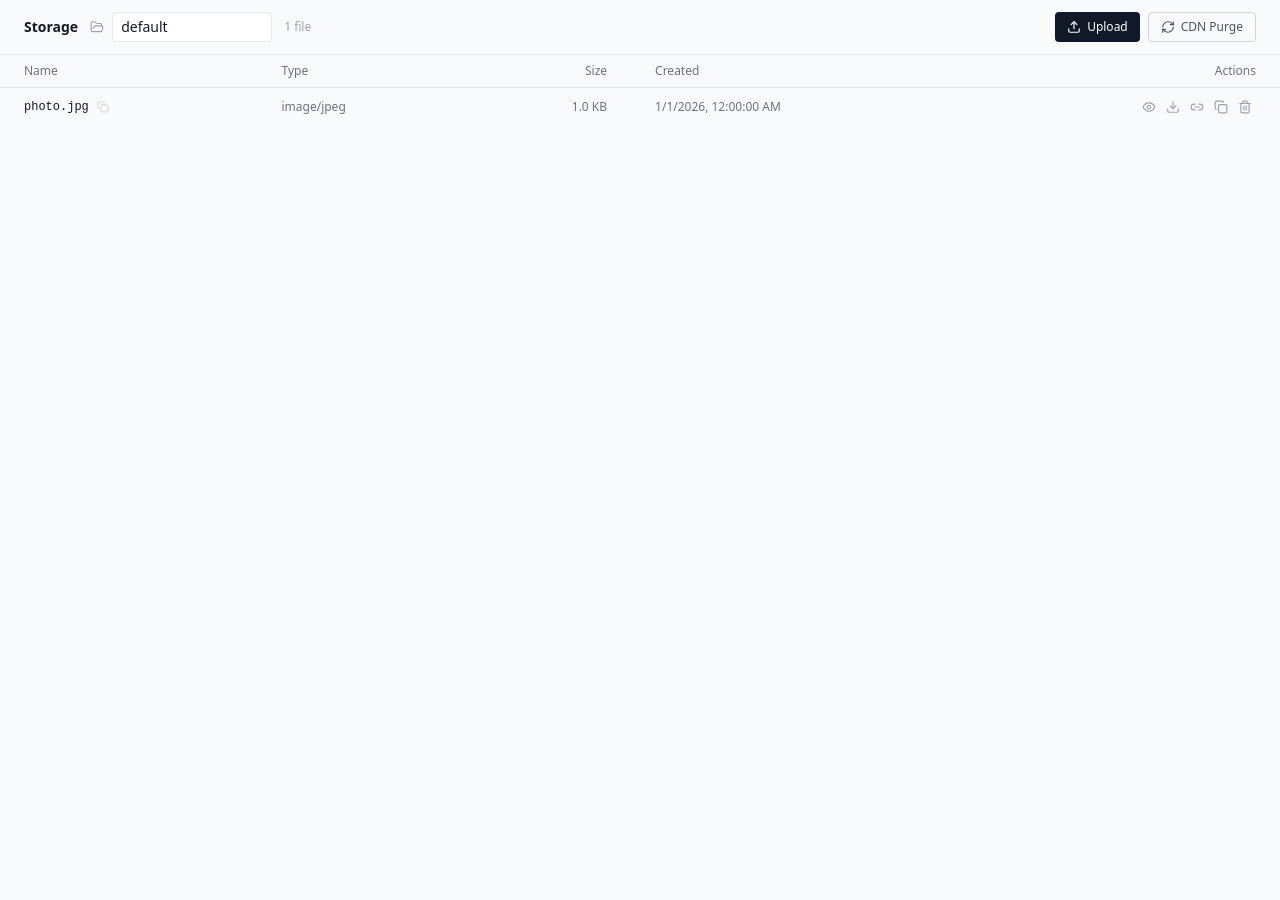
Test case: StorageBrowser › closes delete modal on Cancel
Expected: the text "photo.jpg" is shown, [24,99,89,115]
Step 1. Click the button titled "Delete" → [1245, 107], box [1234,96,1256,118]
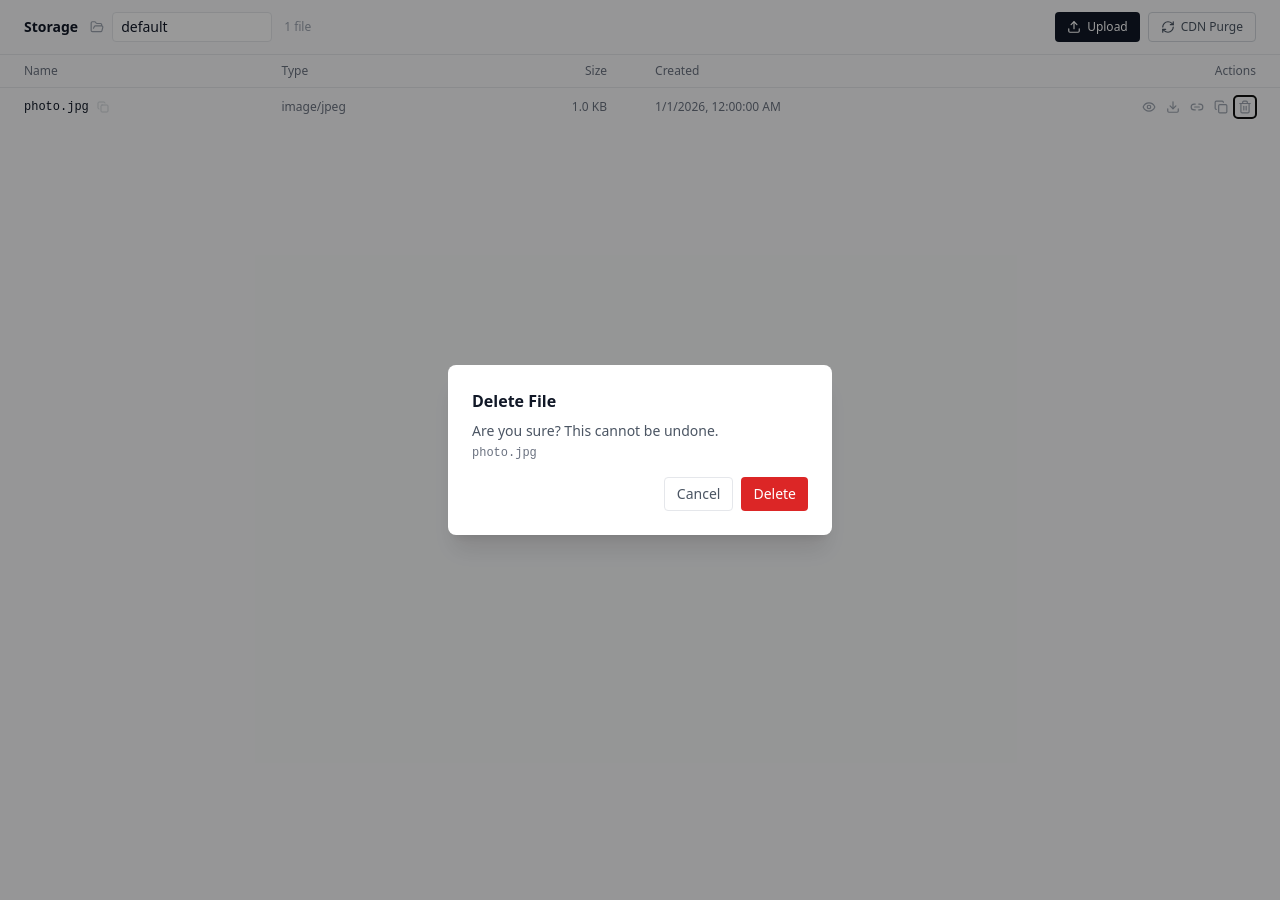
Now the heading "Delete File" is shown, box [472,390,556,412]
Step 2. Click the button "Cancel" → [699, 494], box [664,477,733,511]
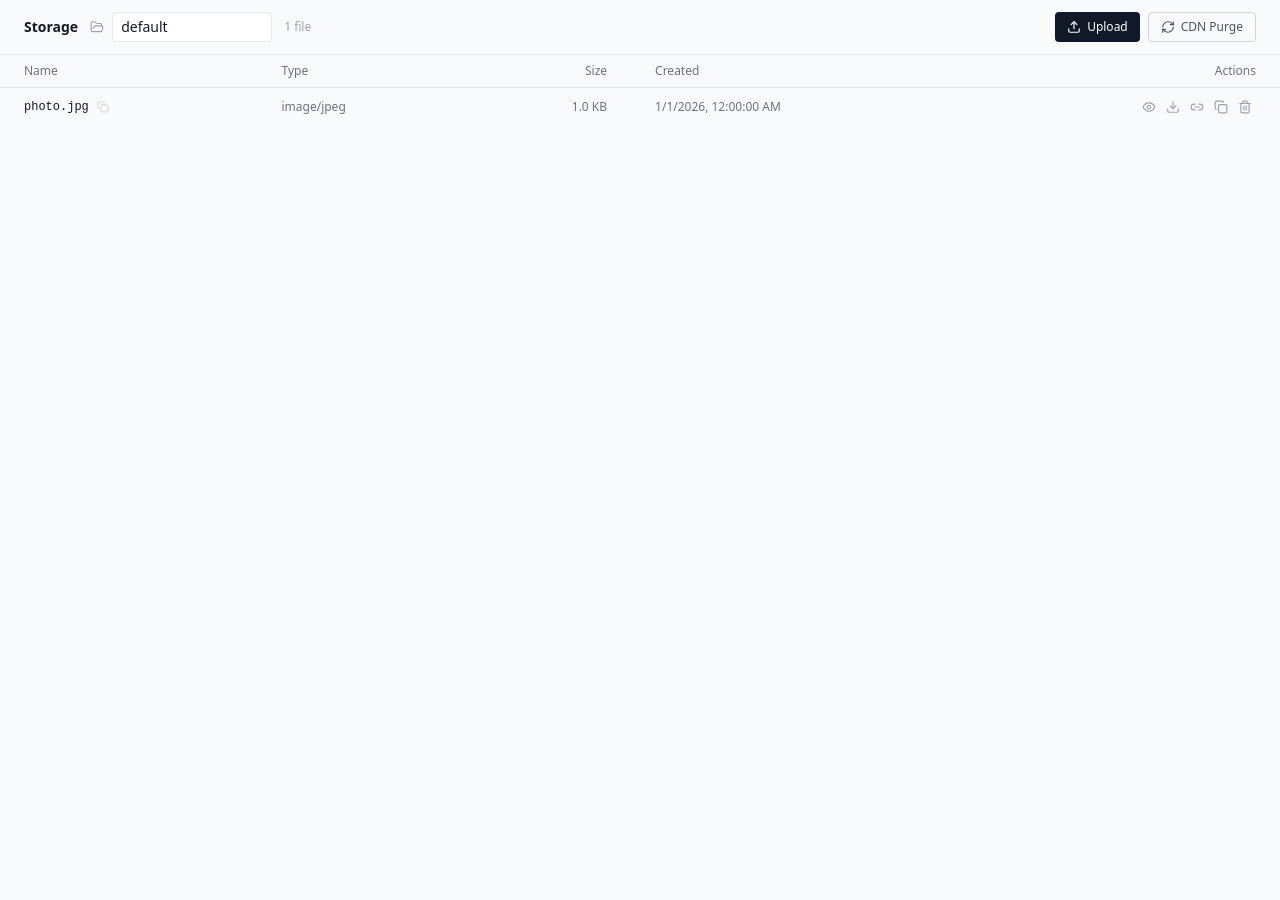
Now the heading "Delete File" is gone
